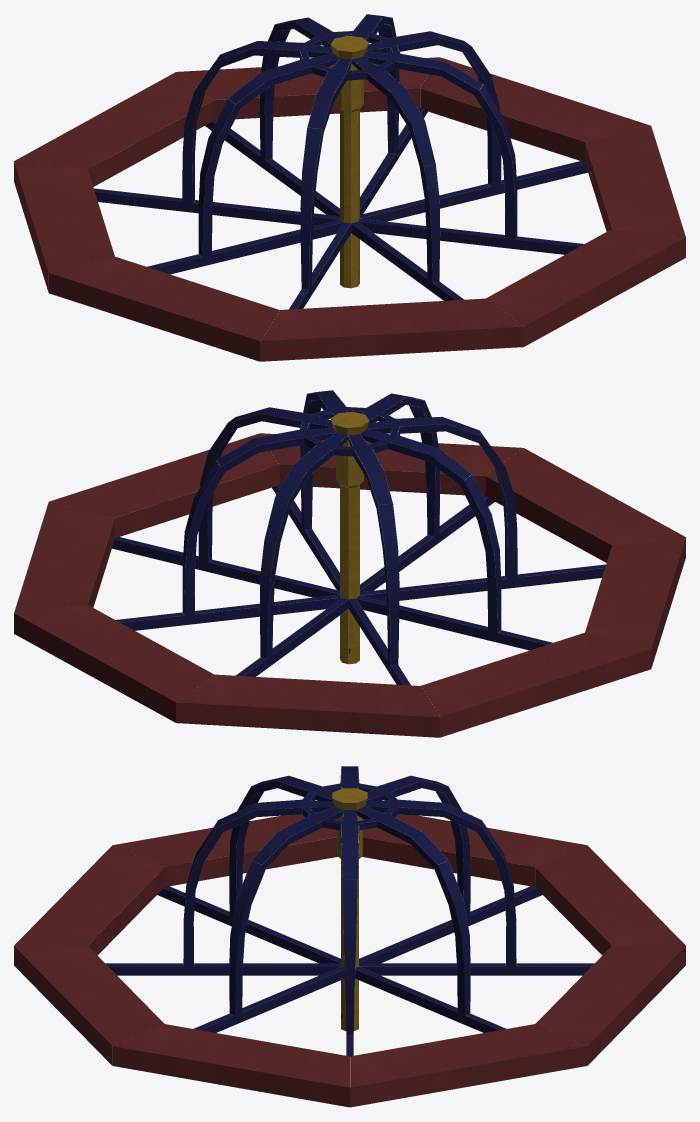
File: roundabout_fbx2.fbx
3 views of the same model, one above another, from view 1: azimuth 30°, elevation 25°; view 2: azimuth 150°, elevation 25°; view 3: azimuth 270°, elevation 25° (orthographic). The views are drawn at different scales.
Parts seen in each view (by area): view 1: roundabout:pCylinder5; view 2: roundabout:pCylinder5; view 3: roundabout:pCylinder5.
Boxes of the visible parts, x1,y1,x2,y2 form: roundabout:pCylinder5: (14, 14, 685, 361); roundabout:pCylinder5: (14, 390, 685, 737); roundabout:pCylinder5: (14, 766, 685, 1107).
Bounding box in the file's own units: 4.84 × 1.85 × 4.84.
